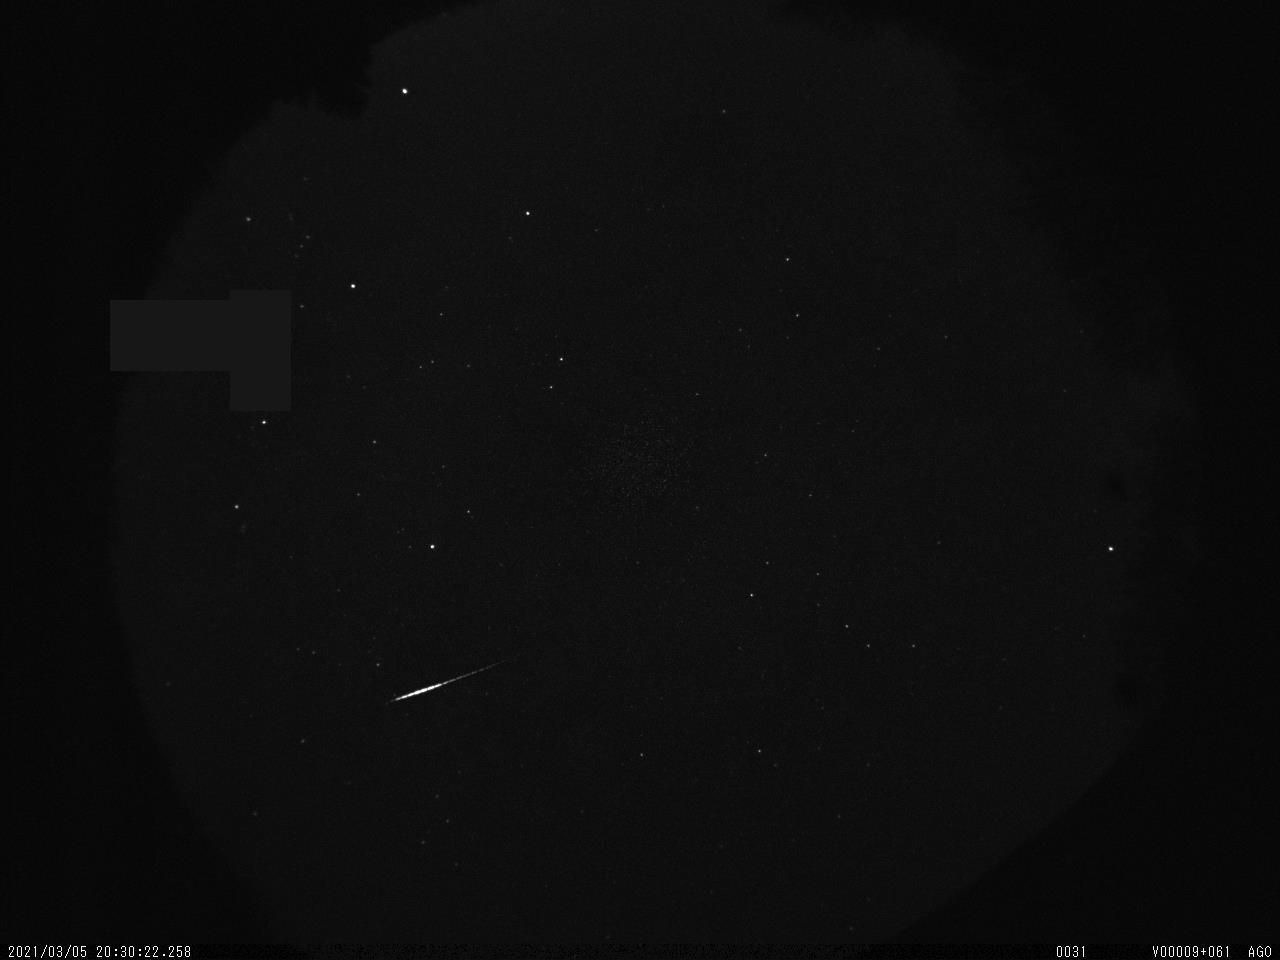meteor: (358, 648, 531, 721)
